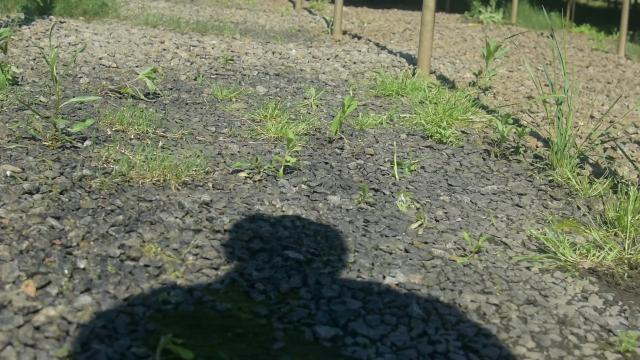MalezaMontesDelPlata: (523, 7, 639, 183), (11, 17, 101, 155), (522, 180, 640, 269), (230, 83, 324, 148), (462, 23, 541, 98), (93, 145, 214, 190), (403, 88, 480, 147), (100, 97, 179, 142), (265, 129, 304, 189), (370, 65, 429, 103), (443, 230, 493, 270), (196, 68, 246, 106), (381, 142, 428, 179), (327, 89, 360, 141)
MusgoMontesDelPlata: (130, 281, 376, 360)
